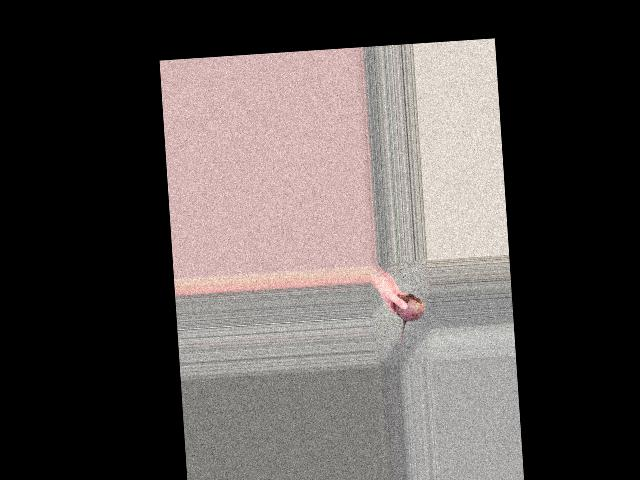beet: (394, 293, 428, 349)
